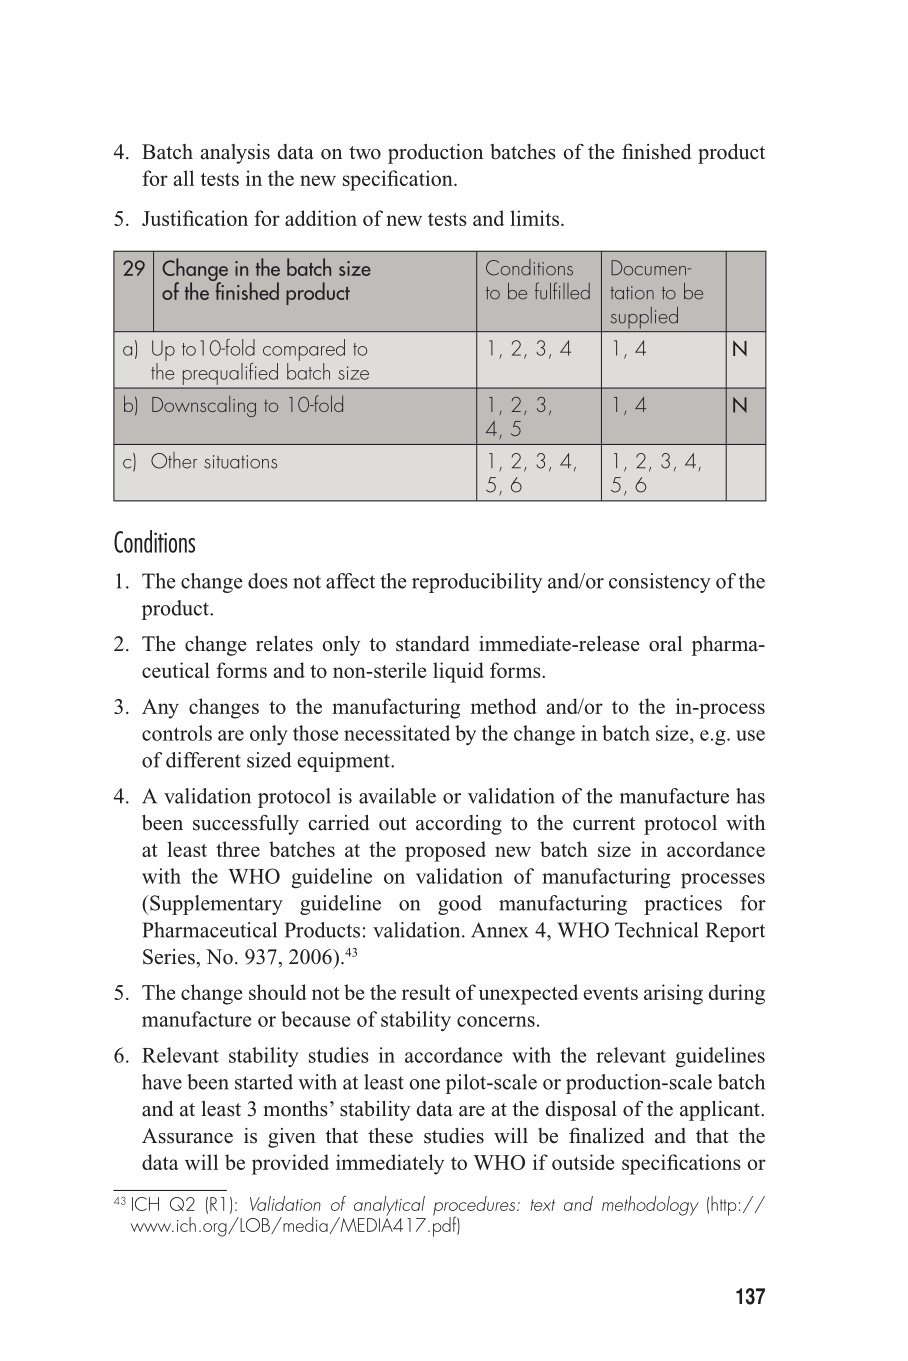merged_cells: (111, 250, 768, 503)
